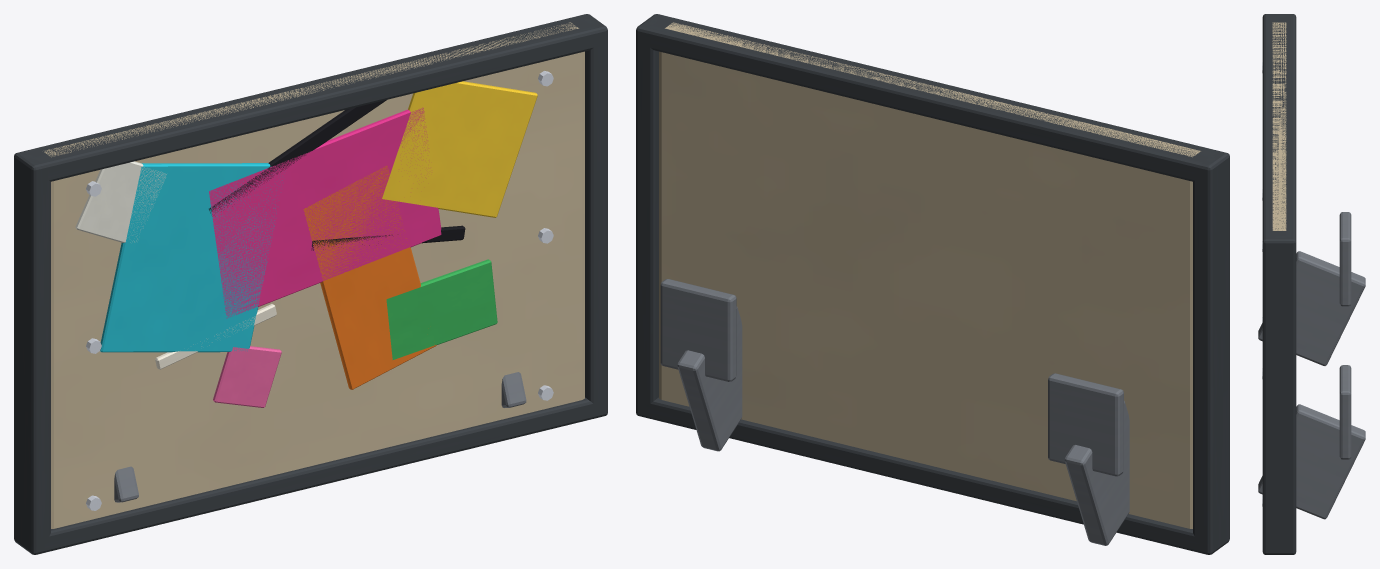
Rendered from misc_graffiti_board.glb.
The picture shows the model from 3 angles, left to right: view 1: azimuth 30°, elevation 25°; view 2: azimuth 150°, elevation 25°; view 3: azimuth 270°, elevation 25°; orthographic projection. The views are drawn at different scales.
Parts seen in each view (by area): view 1: misc_graffiti_board_panel, misc_graffiti_board_tag_0, misc_graffiti_board_tag_1, misc_graffiti_board_rail_top, misc_graffiti_board_tag_2, misc_graffiti_board_stile_l, misc_graffiti_board_tag_3, misc_graffiti_board_rail_bottom, misc_graffiti_board_stile_r, misc_graffiti_board_tag_5, misc_graffiti_board_tag_4, misc_graffiti_board_tag_6 (+5 smaller); view 2: misc_graffiti_board_panel, misc_graffiti_board_rail_top, misc_graffiti_board_stile_l, misc_graffiti_board_rail_bottom, misc_graffiti_board_stile_r, misc_graffiti_board_bracket_plate_r, misc_graffiti_board_bracket_plate_l, misc_graffiti_board_bracket_r, misc_graffiti_board_bracket_l; view 3: misc_graffiti_board_stile_r, misc_graffiti_board_rail_top, misc_graffiti_board_bracket_r, misc_graffiti_board_bracket_l, misc_graffiti_board_panel, misc_graffiti_board_bracket_plate_r, misc_graffiti_board_bracket_plate_l.
Part boxes in pixels (<box>): misc_graffiti_board_panel: <box>44,22,584,528</box>; misc_graffiti_board_tag_0: <box>209,107,441,318</box>; misc_graffiti_board_tag_1: <box>100,163,282,352</box>; misc_graffiti_board_rail_top: <box>25,16,598,181</box>; misc_graffiti_board_tag_2: <box>382,81,537,217</box>; misc_graffiti_board_stile_l: <box>14,150,50,554</box>; misc_graffiti_board_tag_3: <box>303,166,436,389</box>; misc_graffiti_board_rail_bottom: <box>44,397,598,552</box>; misc_graffiti_board_stile_r: <box>575,14,607,418</box>; misc_graffiti_board_tag_5: <box>386,259,497,359</box>; misc_graffiti_board_tag_4: <box>75,161,166,242</box>; misc_graffiti_board_tag_6: <box>213,346,281,407</box>; misc_graffiti_board_panel: <box>659,22,1200,528</box>; misc_graffiti_board_rail_top: <box>645,16,1218,181</box>; misc_graffiti_board_stile_l: <box>1193,150,1229,554</box>; misc_graffiti_board_rail_bottom: <box>645,397,1199,551</box>; misc_graffiti_board_stile_r: <box>636,14,666,418</box>; misc_graffiti_board_bracket_plate_r: <box>660,279,736,381</box>; misc_graffiti_board_bracket_plate_l: <box>1048,373,1123,476</box>; misc_graffiti_board_bracket_r: <box>677,306,742,451</box>; misc_graffiti_board_bracket_l: <box>1064,401,1129,545</box>; misc_graffiti_board_stile_r: <box>1262,234,1296,554</box>; misc_graffiti_board_rail_top: <box>1262,17,1296,238</box>; misc_graffiti_board_bracket_r: <box>1258,404,1365,519</box>; misc_graffiti_board_bracket_l: <box>1258,251,1365,365</box>; misc_graffiti_board_panel: <box>1272,22,1286,230</box>; misc_graffiti_board_bracket_plate_r: <box>1339,365,1351,459</box>; misc_graffiti_board_bracket_plate_l: <box>1339,212,1351,306</box>.
Size of the model in its own units: 2.57 by 1.66 by 0.5133.
14 materials, 14 textured.
